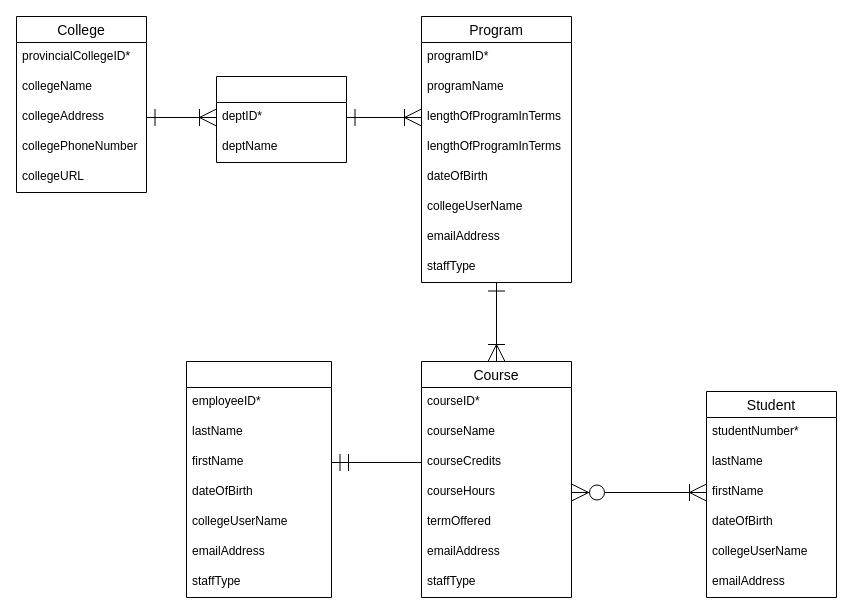
This 853x614 diagram has some shape labels left out. Each missing label, with the box of its shape:
Department: (216, 76, 346, 162)
Staff Member: (186, 360, 332, 598)
